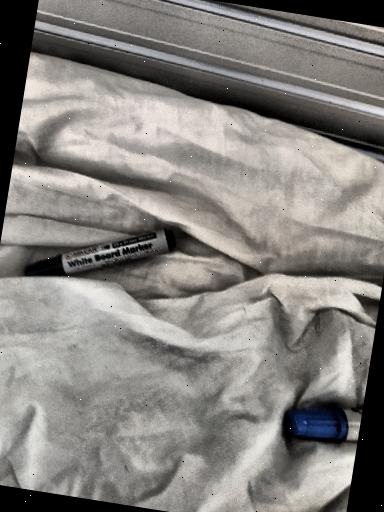marcador azul: (285, 407, 362, 441)
marcador negro: (23, 229, 175, 276)
